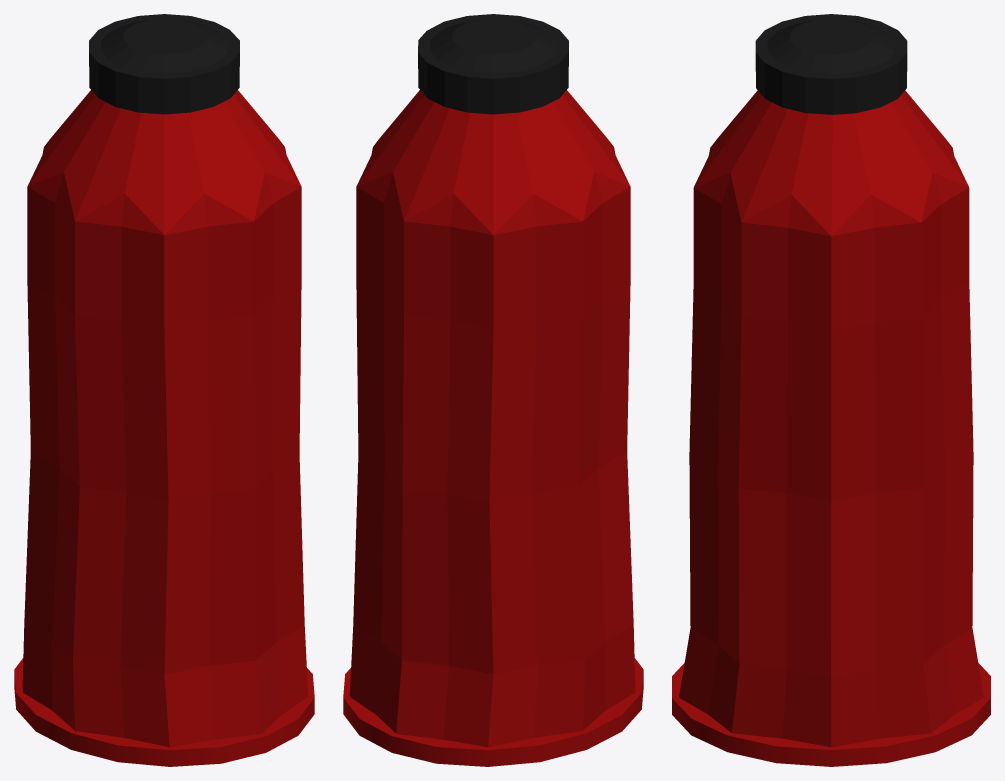
Rendered from Bottle2.fbx.
The picture shows the model from 3 angles, left to right: view 1: azimuth 30°, elevation 25°; view 2: azimuth 150°, elevation 25°; view 3: azimuth 270°, elevation 25°; orthographic projection.
Visible parts, largest first — view 1: Cylinder001; view 2: Cylinder001; view 3: Cylinder001.
Part boxes in pixels (x1,y1,x2,y2): Cylinder001: (14,14,314,766); Cylinder001: (343,14,643,766); Cylinder001: (672,14,990,766).
Bounding box in the file's own units: 8.06 × 19.87 × 8.61.
